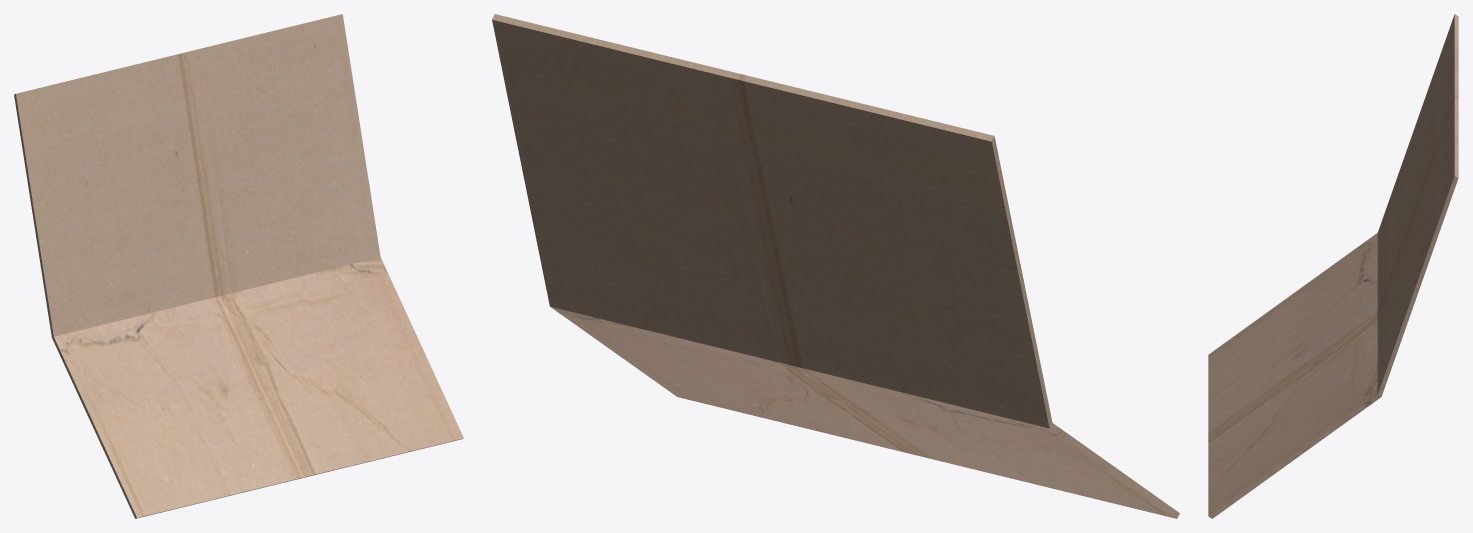
Rendered from cardboard_bent.glb.
3 views of the same model, side by side, from view 1: azimuth 30°, elevation 25°; view 2: azimuth 150°, elevation 25°; view 3: azimuth 270°, elevation 25° (orthographic). The views are drawn at different scales.
Parts seen in each view (by area): view 1: CardboardBent; view 2: CardboardBent; view 3: CardboardBent.
Part boxes in pixels (box(x1,y1,x2,y2)): CardboardBent: box(14, 14, 463, 518); CardboardBent: box(492, 14, 1179, 518); CardboardBent: box(1208, 14, 1458, 518).
Size of the model in its own units: 0.7357 by 0.7268 by 0.4801.
Materials: 1 (1 with a texture image).
